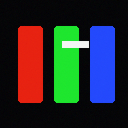3 line_h: (62, 41, 88, 47)
